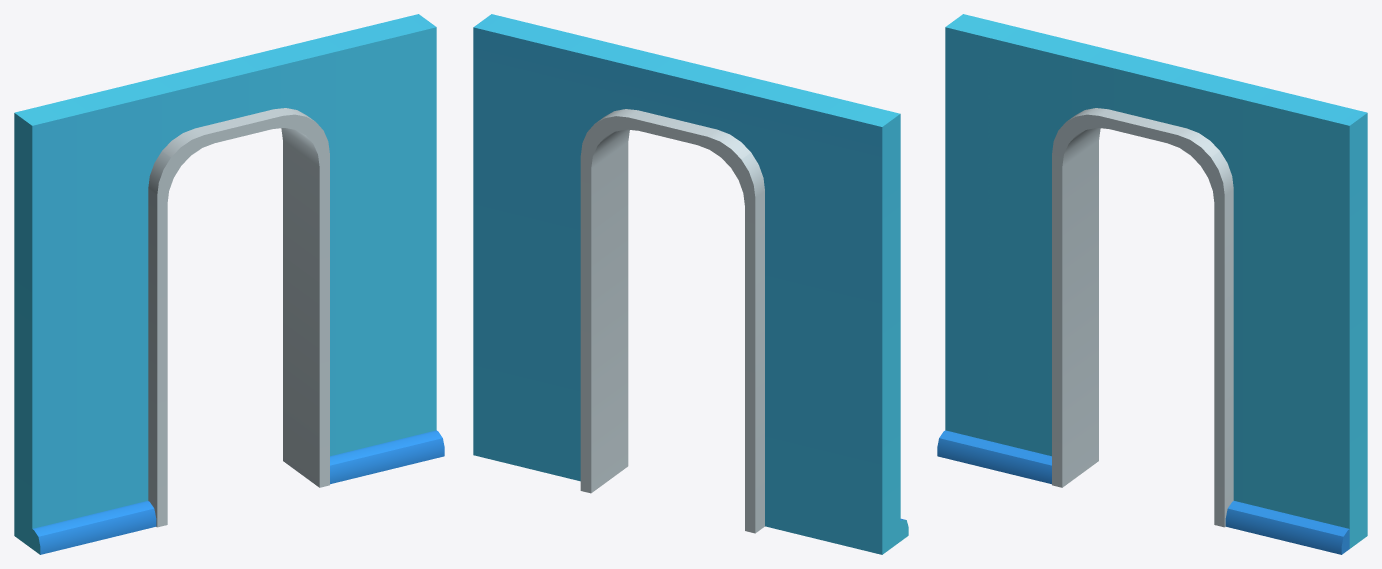
The model's file is B_DoorWall002.fbx.
The picture shows the model from 3 angles, left to right: view 1: azimuth 30°, elevation 25°; view 2: azimuth 150°, elevation 25°; view 3: azimuth 330°, elevation 25°; orthographic projection.
Visible parts, largest first — view 1: DoorWall002; view 2: DoorWall002; view 3: DoorWall002.
Part boxes in pixels (x1,y1,x2,y2): DoorWall002: (14,14,444,554); DoorWall002: (473,14,908,554); DoorWall002: (937,14,1367,554).
Size of the model in its own units: 250 by 250 by 39.35.
1 material, 1 textured.
